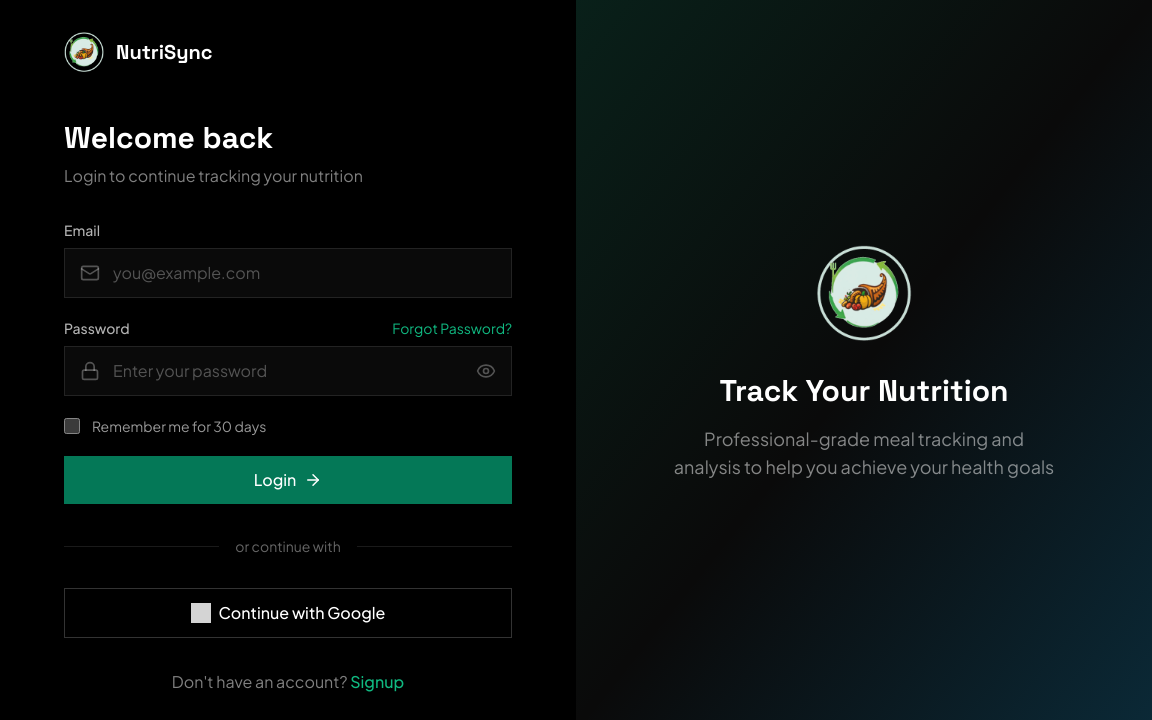
Scenario: Login Page › handles Google OAuth error
What coordinates should you click on to do the following:
click the button "Continue with Google"
I would click on:
 (288, 613)
Its box is [64, 588, 512, 638].
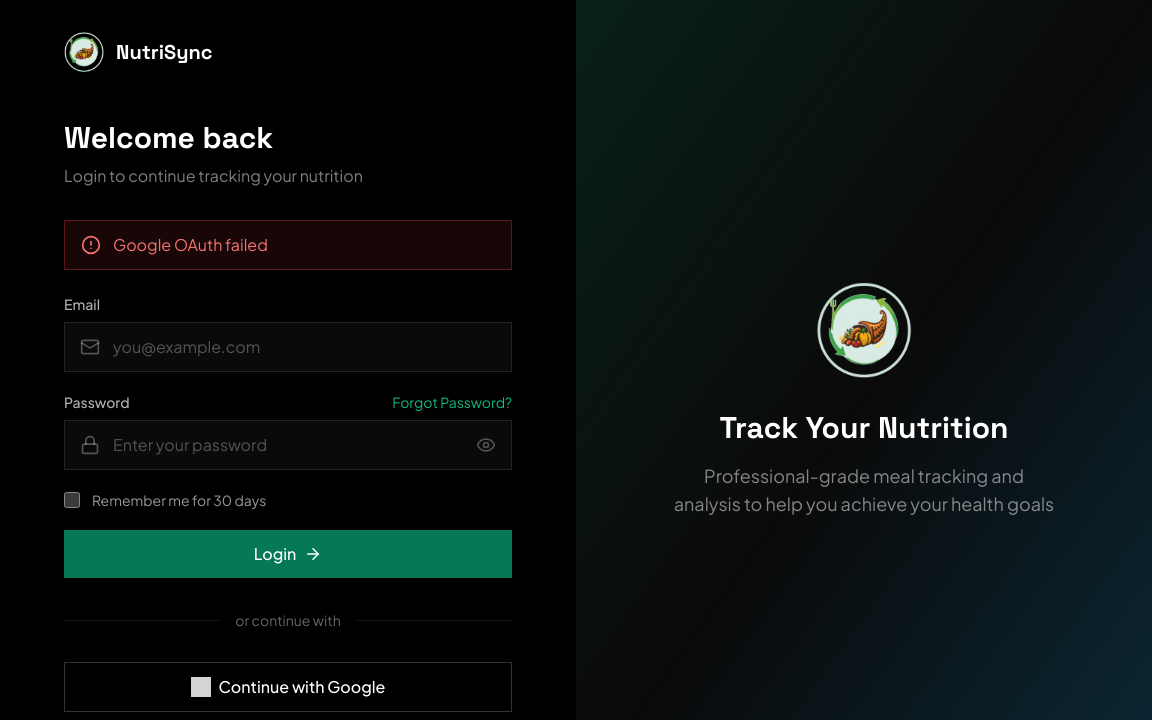
Check: the text "Google OAuth failed" is shown, box [113, 234, 268, 255]
